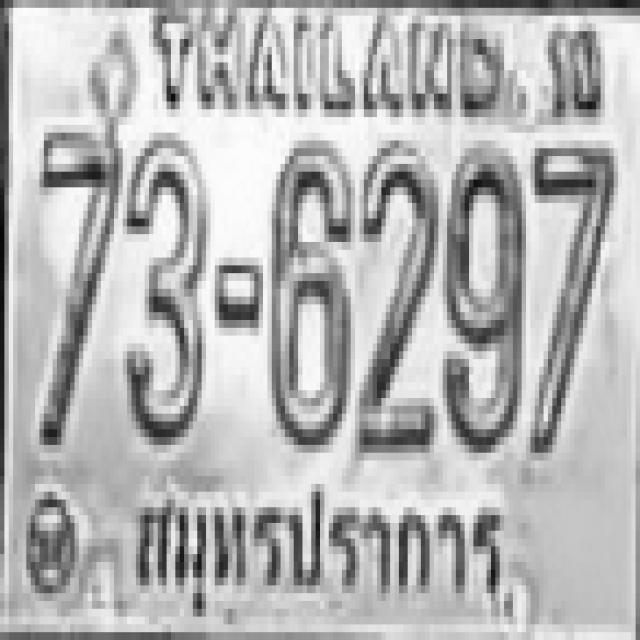2: (357, 144, 436, 449)
3: (123, 133, 206, 437)
6: (267, 137, 351, 441)
7: (526, 136, 614, 448), (33, 129, 120, 441)
9: (438, 144, 522, 441)
SamutPrakan: (125, 473, 512, 619)
